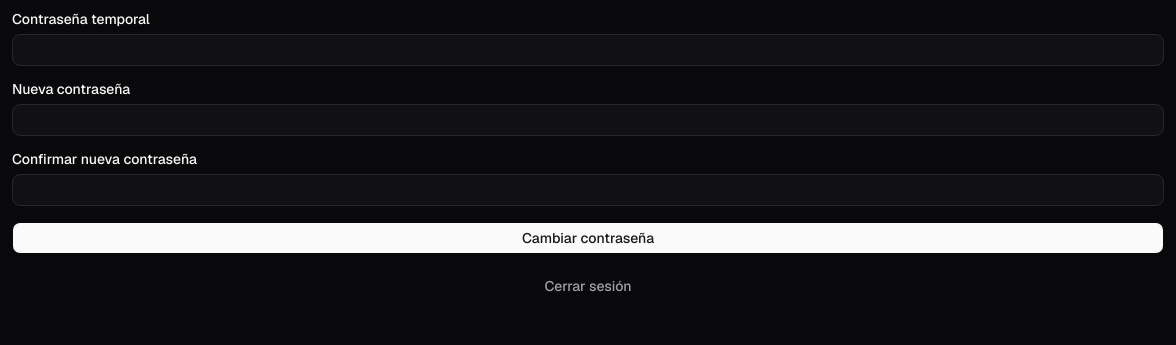
Test: ForcedPasswordChangeForm — server rejections › shows the server's message when the current password is wrong
Type "wrong" into the password field labelled "Contraseña temporal". click: (588, 50)
box: x1=12 y1=34 x2=1164 y2=66
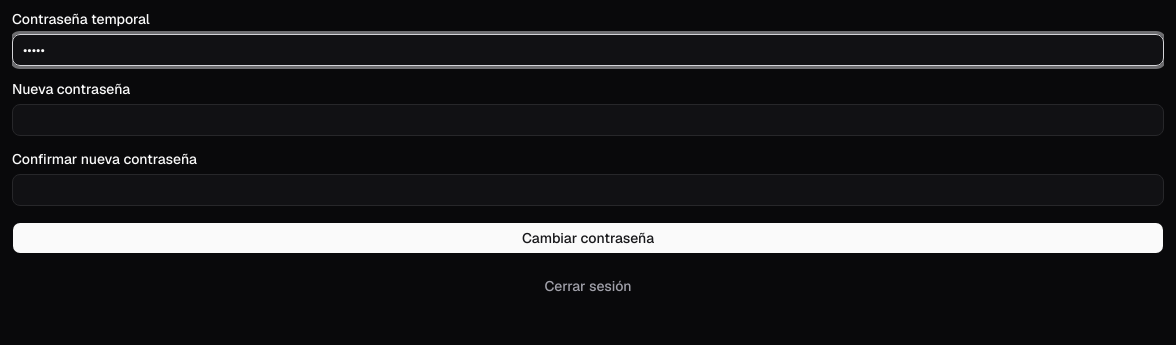
Type "a-new-password" into the password field labelled "Nueva contraseña". click: (588, 120)
box: x1=12 y1=104 x2=1164 y2=136
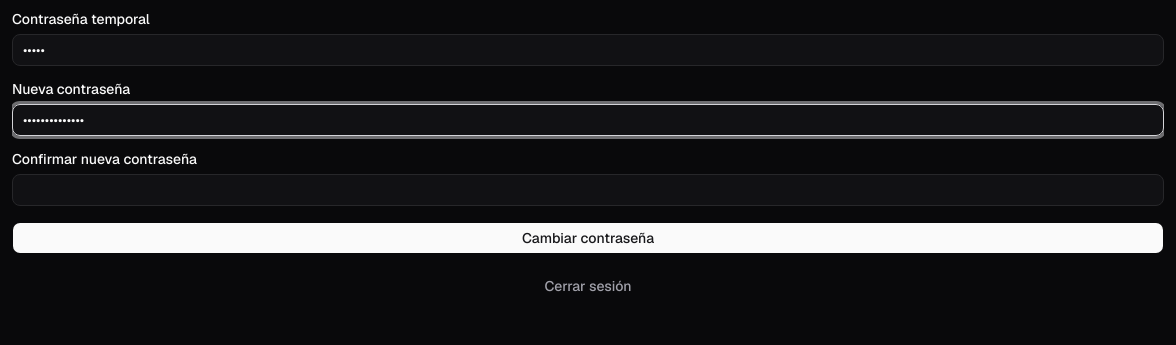
Type "a-new-password" into the password field labelled "Confirmar nueva contraseña". click: (588, 190)
box: x1=12 y1=174 x2=1164 y2=206
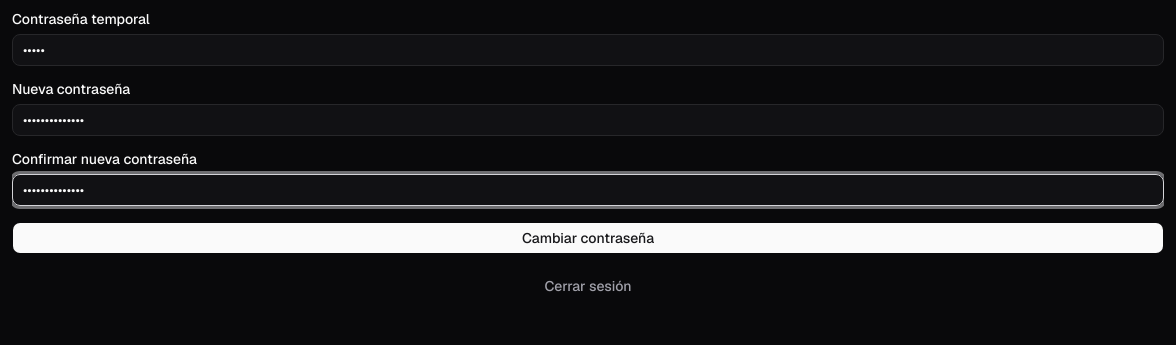
Click the button "Cambiar contraseña". click: (588, 238)
box: x1=12 y1=222 x2=1164 y2=254
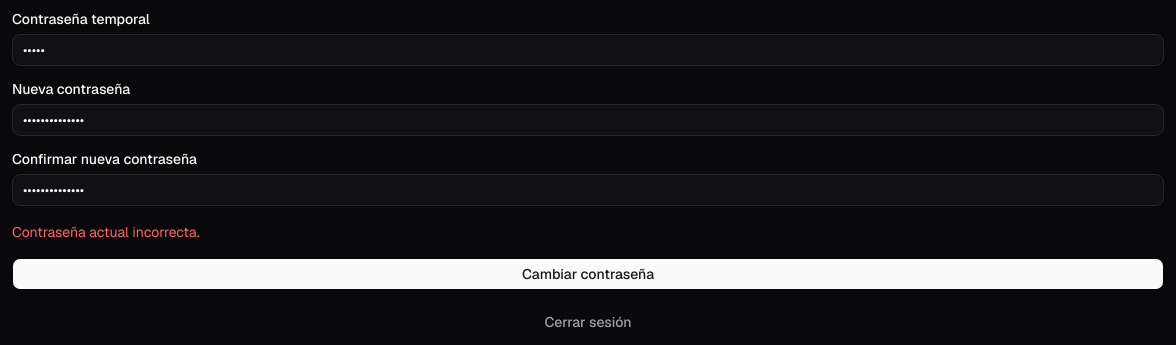
expect the message reads "Contraseña actual incorrecta.": met, box x1=12 y1=223 x2=200 y2=241
